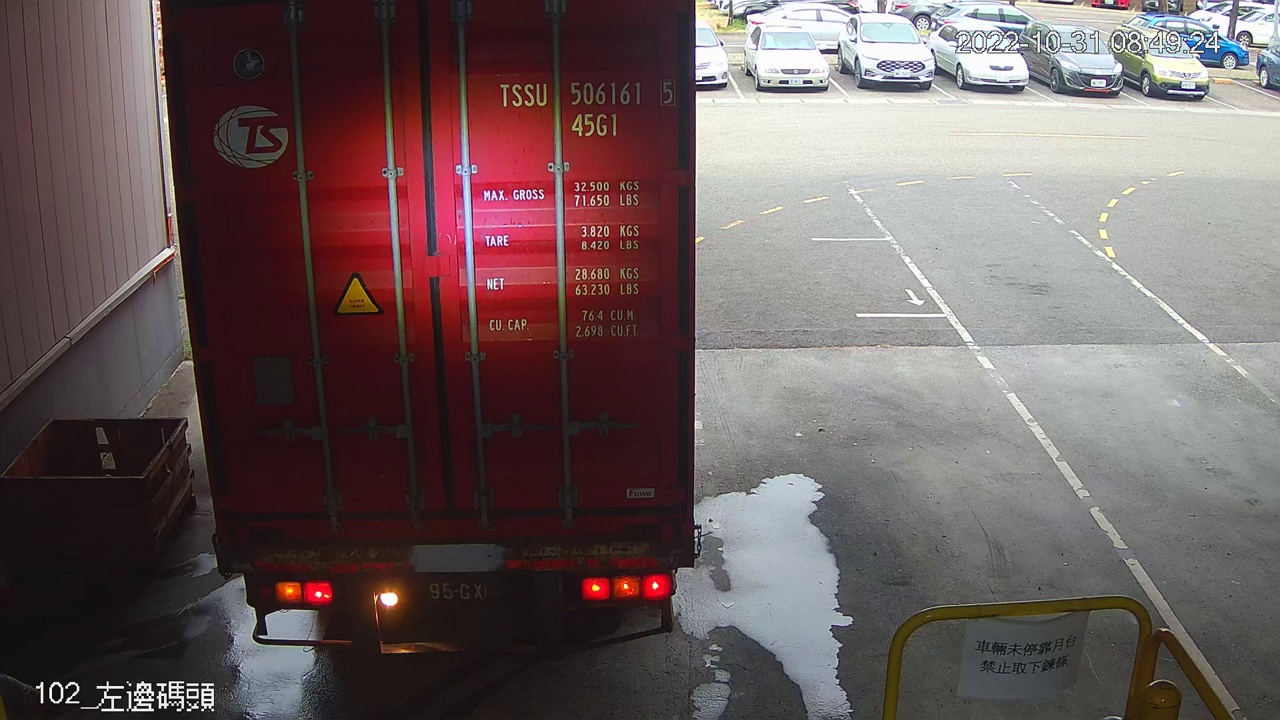container: (486, 72, 682, 140)
